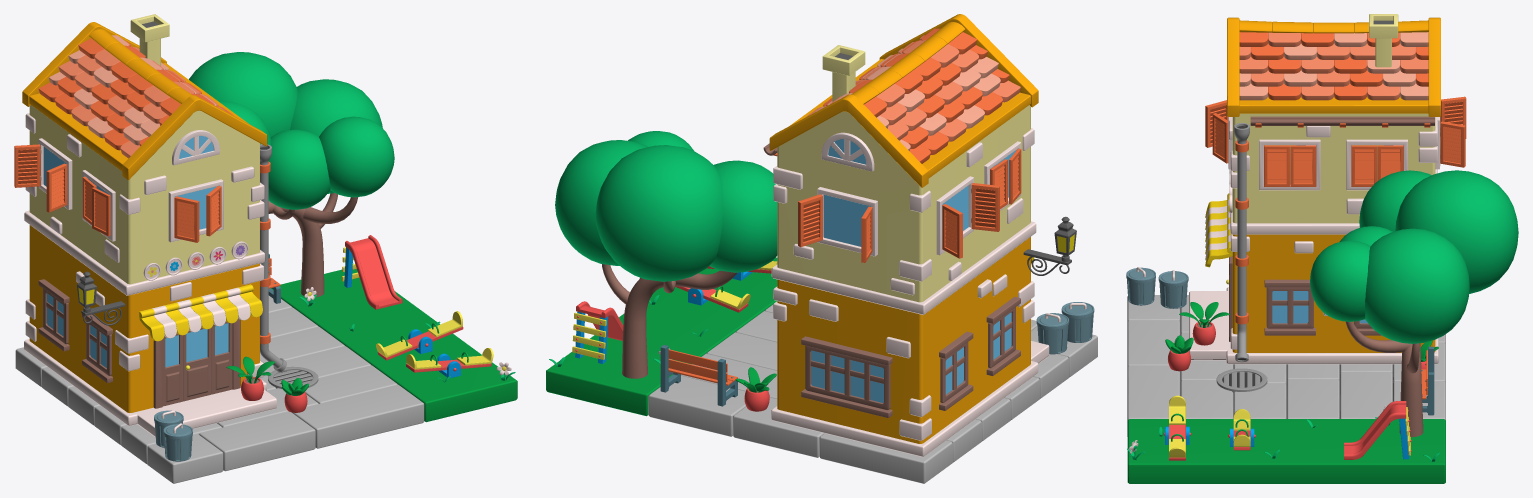
The model's file is City_Island_12.glb.
The picture shows the model from 3 angles, left to right: view 1: azimuth 30°, elevation 25°; view 2: azimuth 150°, elevation 25°; view 3: azimuth 270°, elevation 25°; orthographic projection. The views are drawn at different scales.
Visible parts, largest first — view 1: City_12_House_1, City_12_Base_1, City_12_Tree_1, City_12_Base_2, City_12_Childrens_Slide_1, City_12_Drain_Pipe_1, City_12_Childrens_Seesaw_1, City_12_Childrens_Seesaw_2, City_12_Stree_Wall_Lamp_1, City_12_Dustbin_1, City_12_Plant_3, City_12_Drain_Hatch_1 (+2 smaller); view 2: City_12_House_1, City_12_Tree_1, City_12_Base_1, City_12_Base_2, City_12_Bench_1, City_12_Childrens_Slide_1, City_12_Stree_Wall_Lamp_1, City_12_Dustbin_2, City_12_Dustbin_1, City_12_Childrens_Seesaw_1, City_12_Plant_1; view 3: City_12_House_1, City_12_Tree_1, City_12_Base_2, City_12_Base_1, City_12_Drain_Pipe_1, City_12_Gutter_1, City_12_Childrens_Slide_1, City_12_Childrens_Seesaw_2, City_12_Dustbin_1, City_12_Dustbin_2, City_12_Drain_Hatch_1, City_12_Plant_3 (+3 smaller).
Boxes of the visible parts, <box> form: City_12_House_1: <box>14,14,276,437</box>; City_12_Base_1: <box>15,295,424,483</box>; City_12_Tree_1: <box>189,52,394,297</box>; City_12_Base_2: <box>271,269,517,422</box>; City_12_Childrens_Slide_1: <box>341,235,402,309</box>; City_12_Drain_Pipe_1: <box>260,144,286,372</box>; City_12_Childrens_Seesaw_1: <box>376,311,463,360</box>; City_12_Childrens_Seesaw_2: <box>406,348,493,378</box>; City_12_Stree_Wall_Lamp_1: <box>77,271,125,325</box>; City_12_Dustbin_1: <box>163,423,192,461</box>; City_12_Plant_3: <box>226,356,274,400</box>; City_12_Drain_Hatch_1: <box>268,366,318,388</box>; City_12_House_1: <box>769,14,1049,456</box>; City_12_Tree_1: <box>555,131,777,378</box>; City_12_Base_1: <box>648,305,1097,483</box>; City_12_Base_2: <box>546,257,777,416</box>; City_12_Bench_1: <box>660,345,737,406</box>; City_12_Childrens_Slide_1: <box>572,301,623,363</box>; City_12_Stree_Wall_Lamp_1: <box>1023,216,1076,275</box>; City_12_Dustbin_2: <box>1036,313,1069,354</box>; City_12_Dustbin_1: <box>1061,302,1094,342</box>; City_12_Childrens_Seesaw_1: <box>675,286,750,312</box>; City_12_Plant_1: <box>735,367,776,411</box>; City_12_House_1: <box>1189,14,1466,364</box>; City_12_Tree_1: <box>1310,170,1518,437</box>; City_12_Base_2: <box>1127,419,1445,483</box>; City_12_Base_1: <box>1127,295,1445,436</box>; City_12_Drain_Pipe_1: <box>1234,123,1249,362</box>; City_12_Gutter_1: <box>1250,116,1434,127</box>; City_12_Childrens_Slide_1: <box>1344,401,1411,459</box>; City_12_Childrens_Seesaw_2: <box>1163,395,1191,460</box>; City_12_Dustbin_1: <box>1126,267,1155,305</box>; City_12_Dustbin_2: <box>1158,270,1188,308</box>; City_12_Drain_Hatch_1: <box>1216,368,1267,392</box>; City_12_Plant_3: <box>1179,302,1229,345</box>.
Size of the model in its own units: 12.15 by 10.48 by 10.75.
28 materials, 28 textured.
